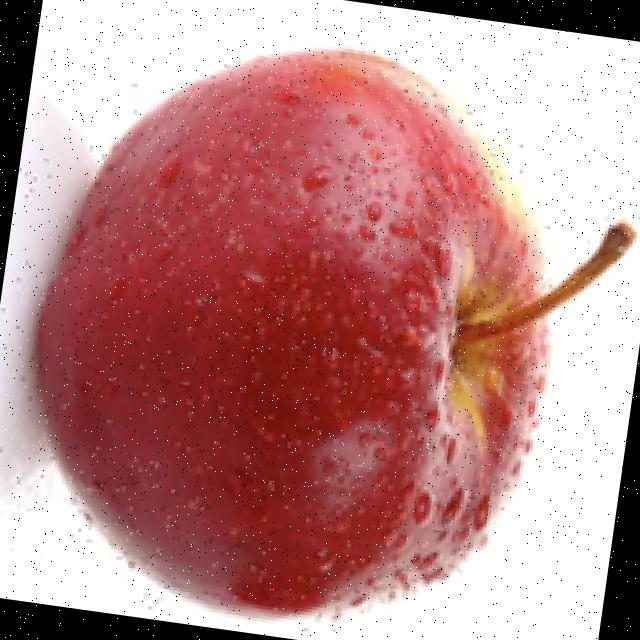apple: (0, 34, 640, 633)
